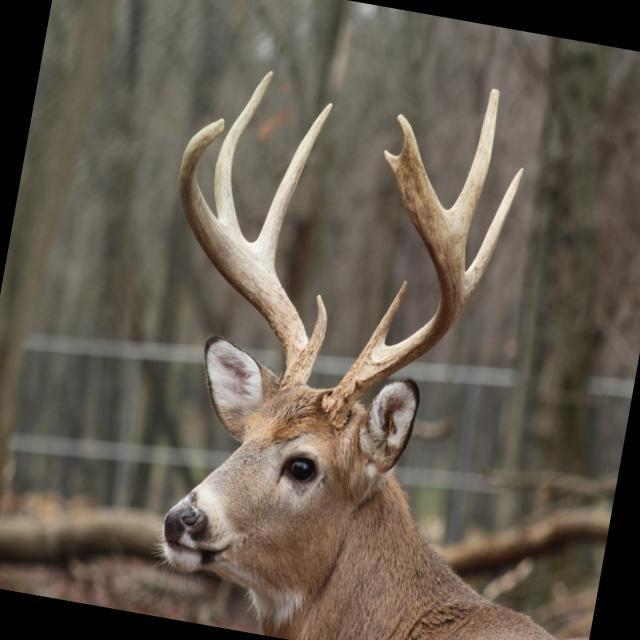E1: (396, 113, 421, 161)
L-F: (322, 149, 464, 429)
L-G1: (362, 279, 407, 351)
L-G3: (446, 88, 499, 249)
R-F: (176, 118, 308, 390)
R-G1: (299, 294, 327, 373)
R-G2: (252, 102, 332, 271)
R-G3: (214, 70, 273, 232)
